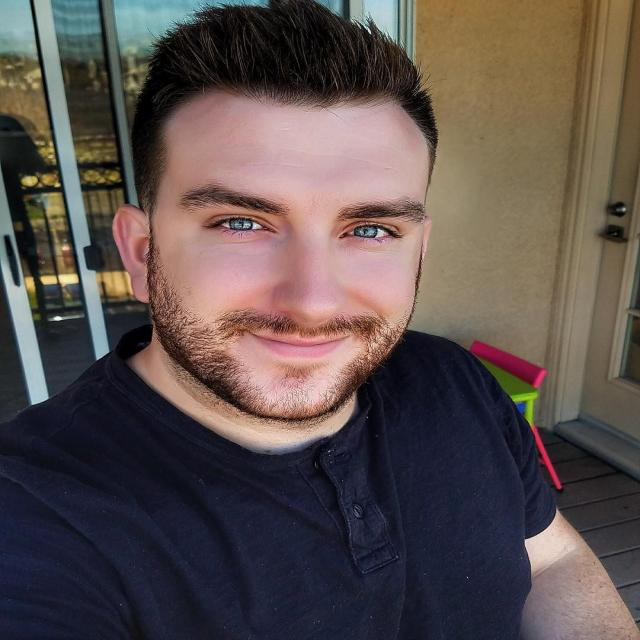earlobe: (130, 264, 154, 306)
eye: (206, 215, 278, 236), (338, 221, 402, 242)
nose: (274, 312, 348, 342)
wholeear: (112, 205, 155, 306)
